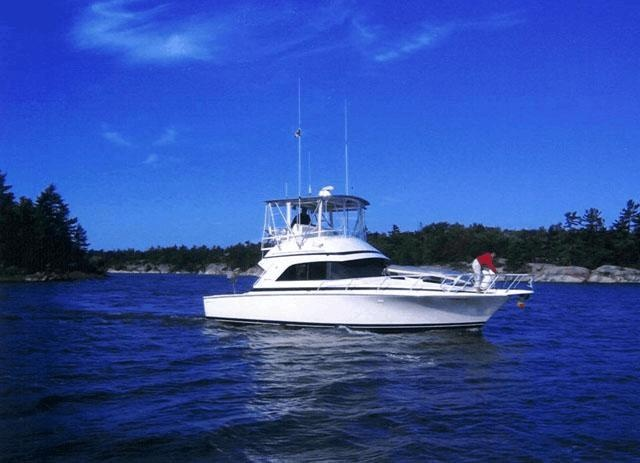yacht: (195, 136, 542, 329)
